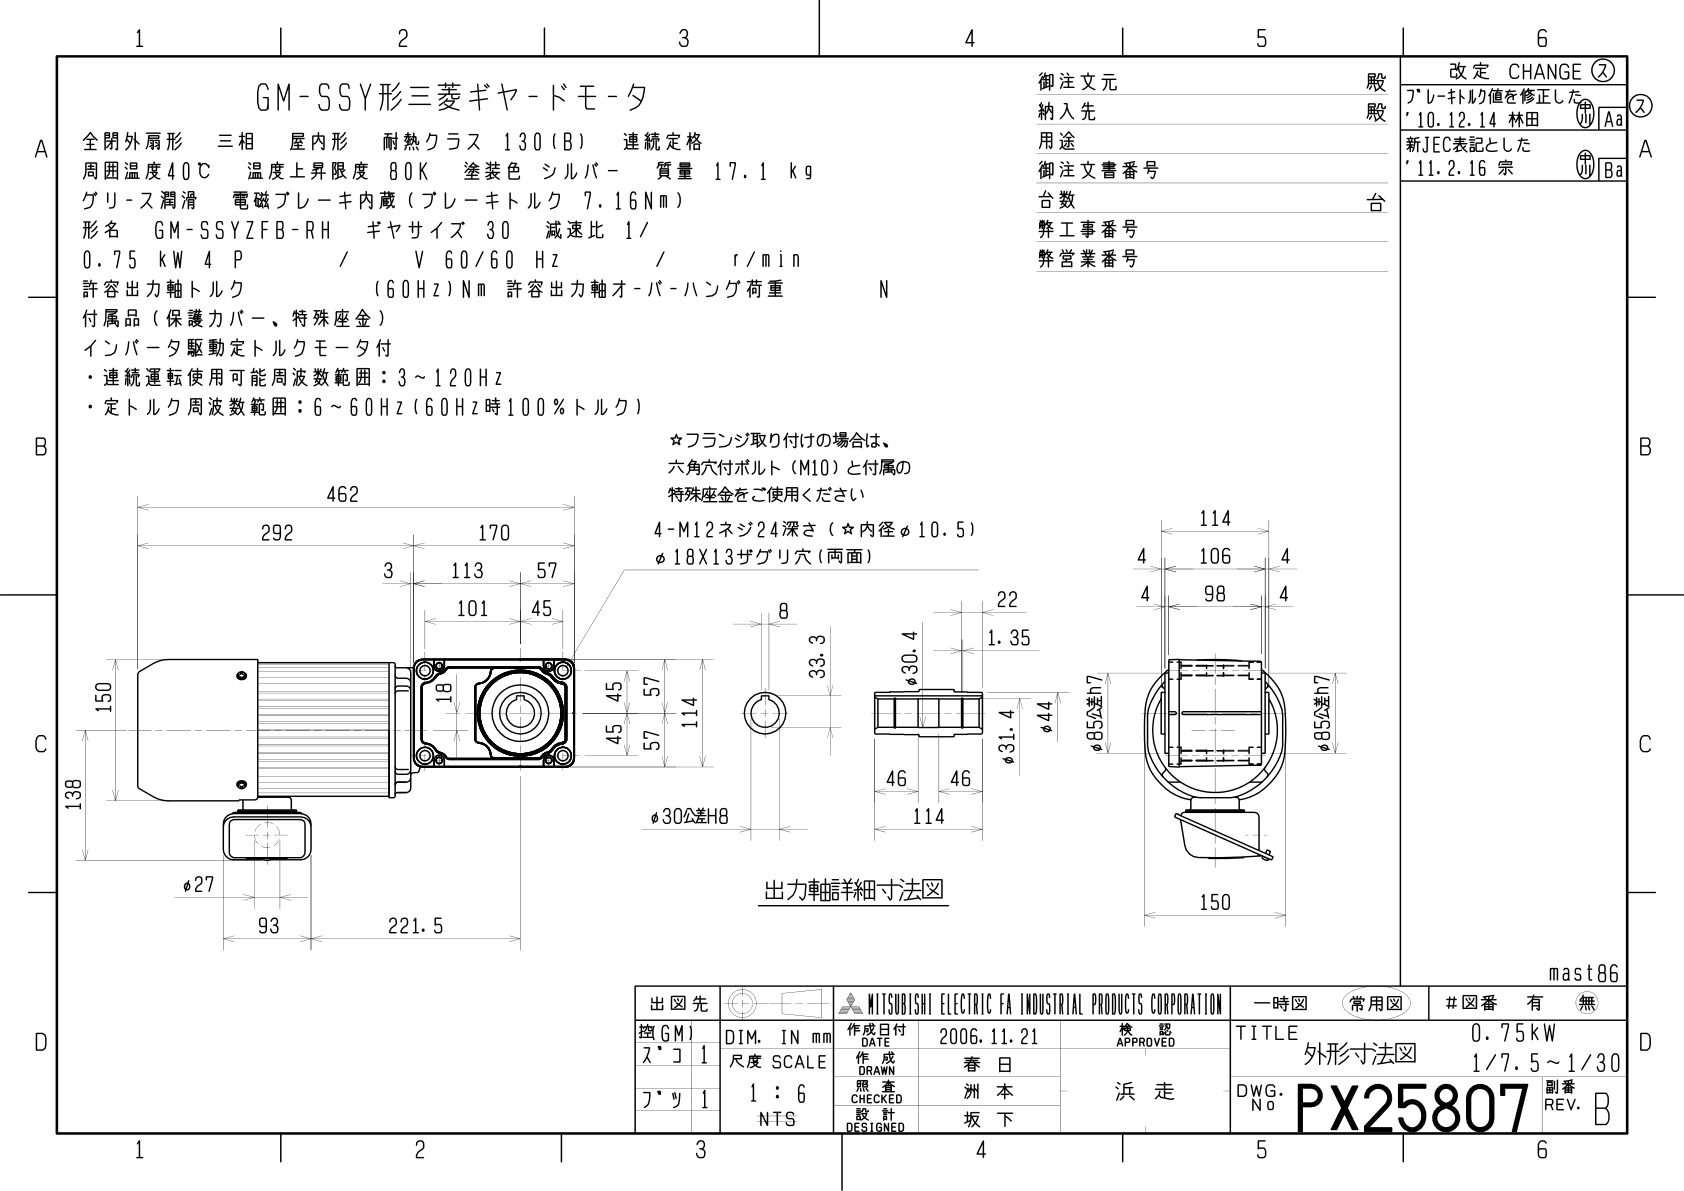GM_SSY_インバータ屋内_三相: (63, 431, 1371, 962)
